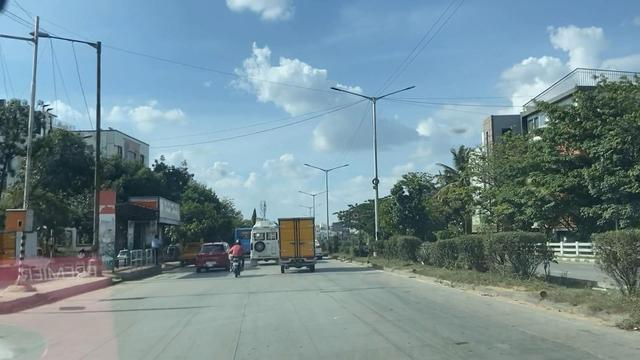HMV: (274, 215, 320, 270)
LMV: (201, 245, 228, 269), (230, 239, 244, 272)
